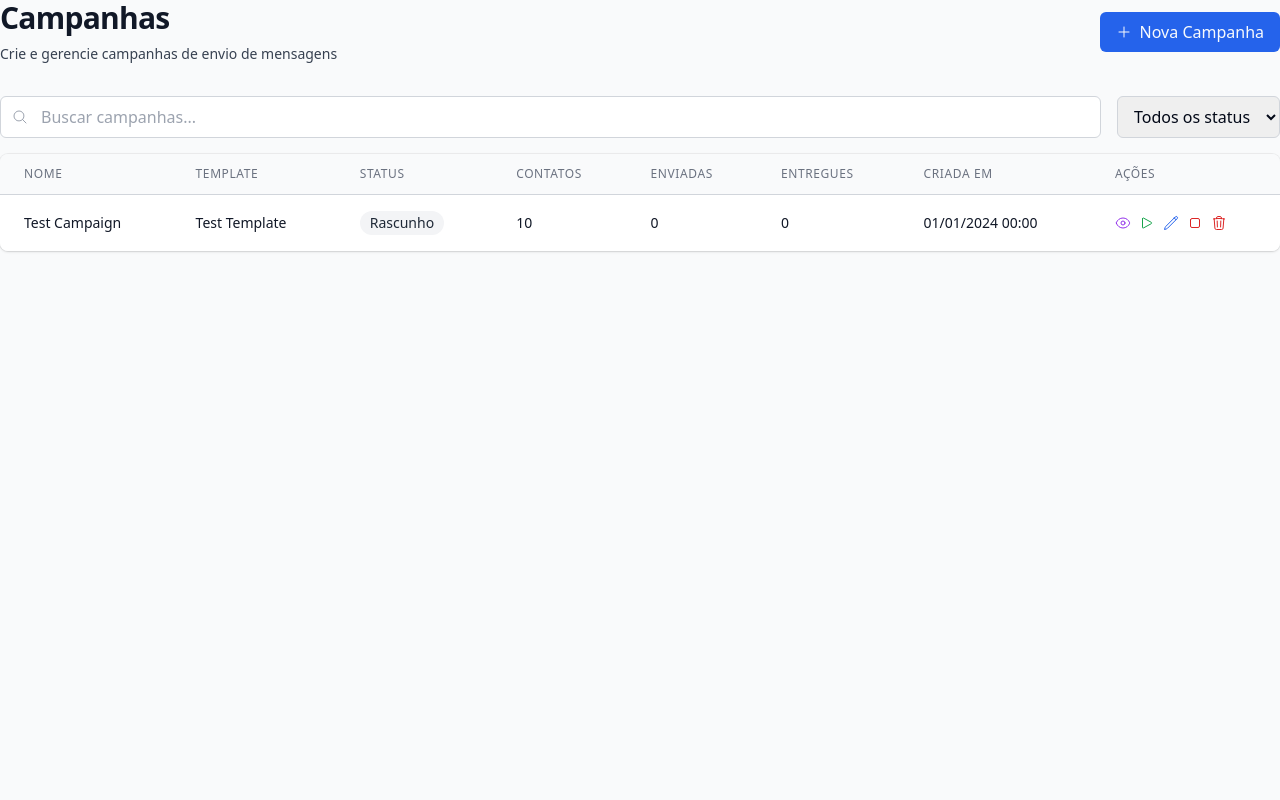
Scenario: Campaigns Page › opens edit modal when clicking edit button
Expected: the text "Test Campaign" is shown, [0,194,172,251]
Click the button titled "Editar" at (1171, 223), box [1163,215,1179,231]
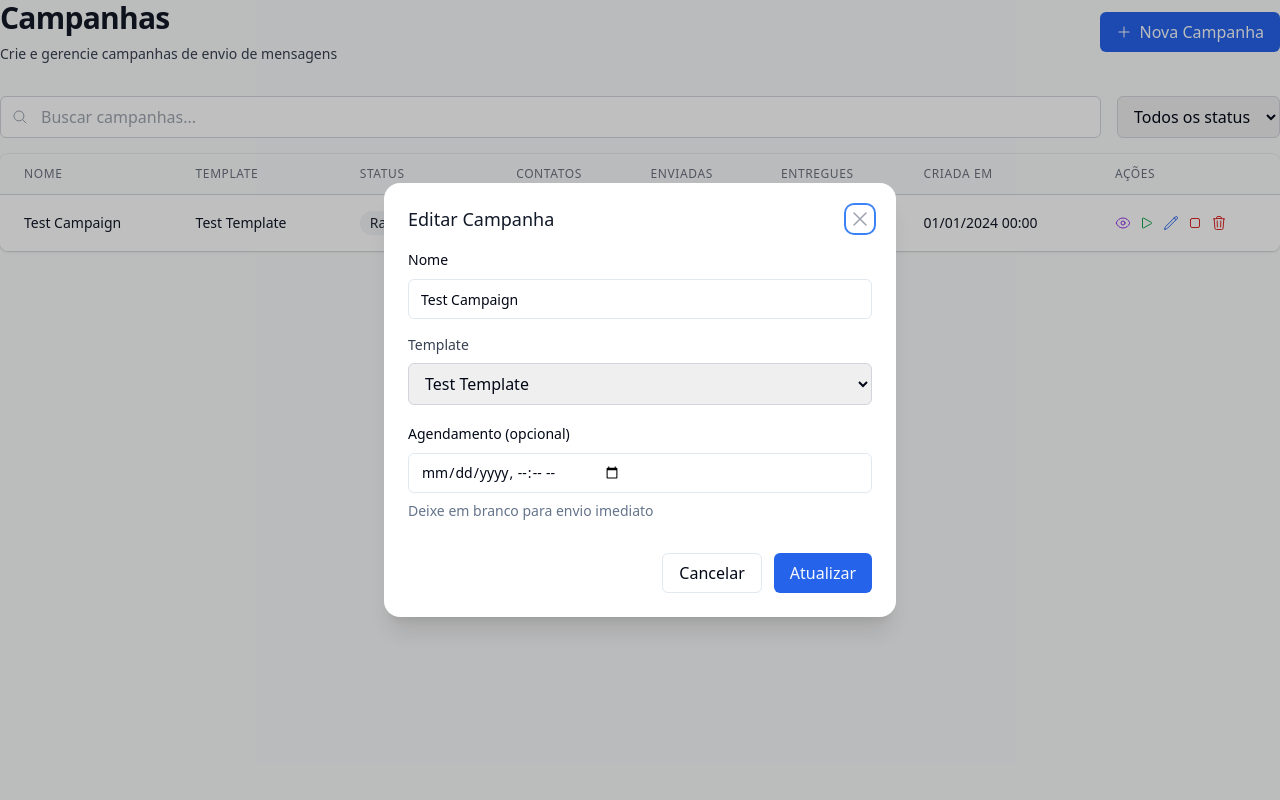
Now the heading "Editar Campanha" is shown, box [408,207,554,231]
Now the 1st field showing "Test Campaign" is shown, box [408,279,872,319]
